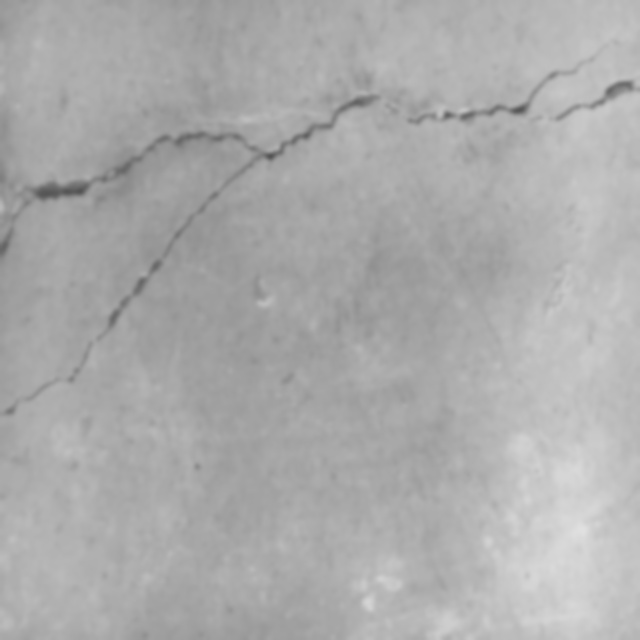SurfaceCrack: (0, 7, 639, 412)
